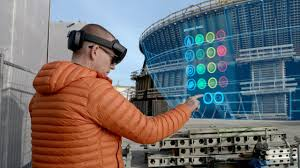hololens: (66, 29, 129, 65)
